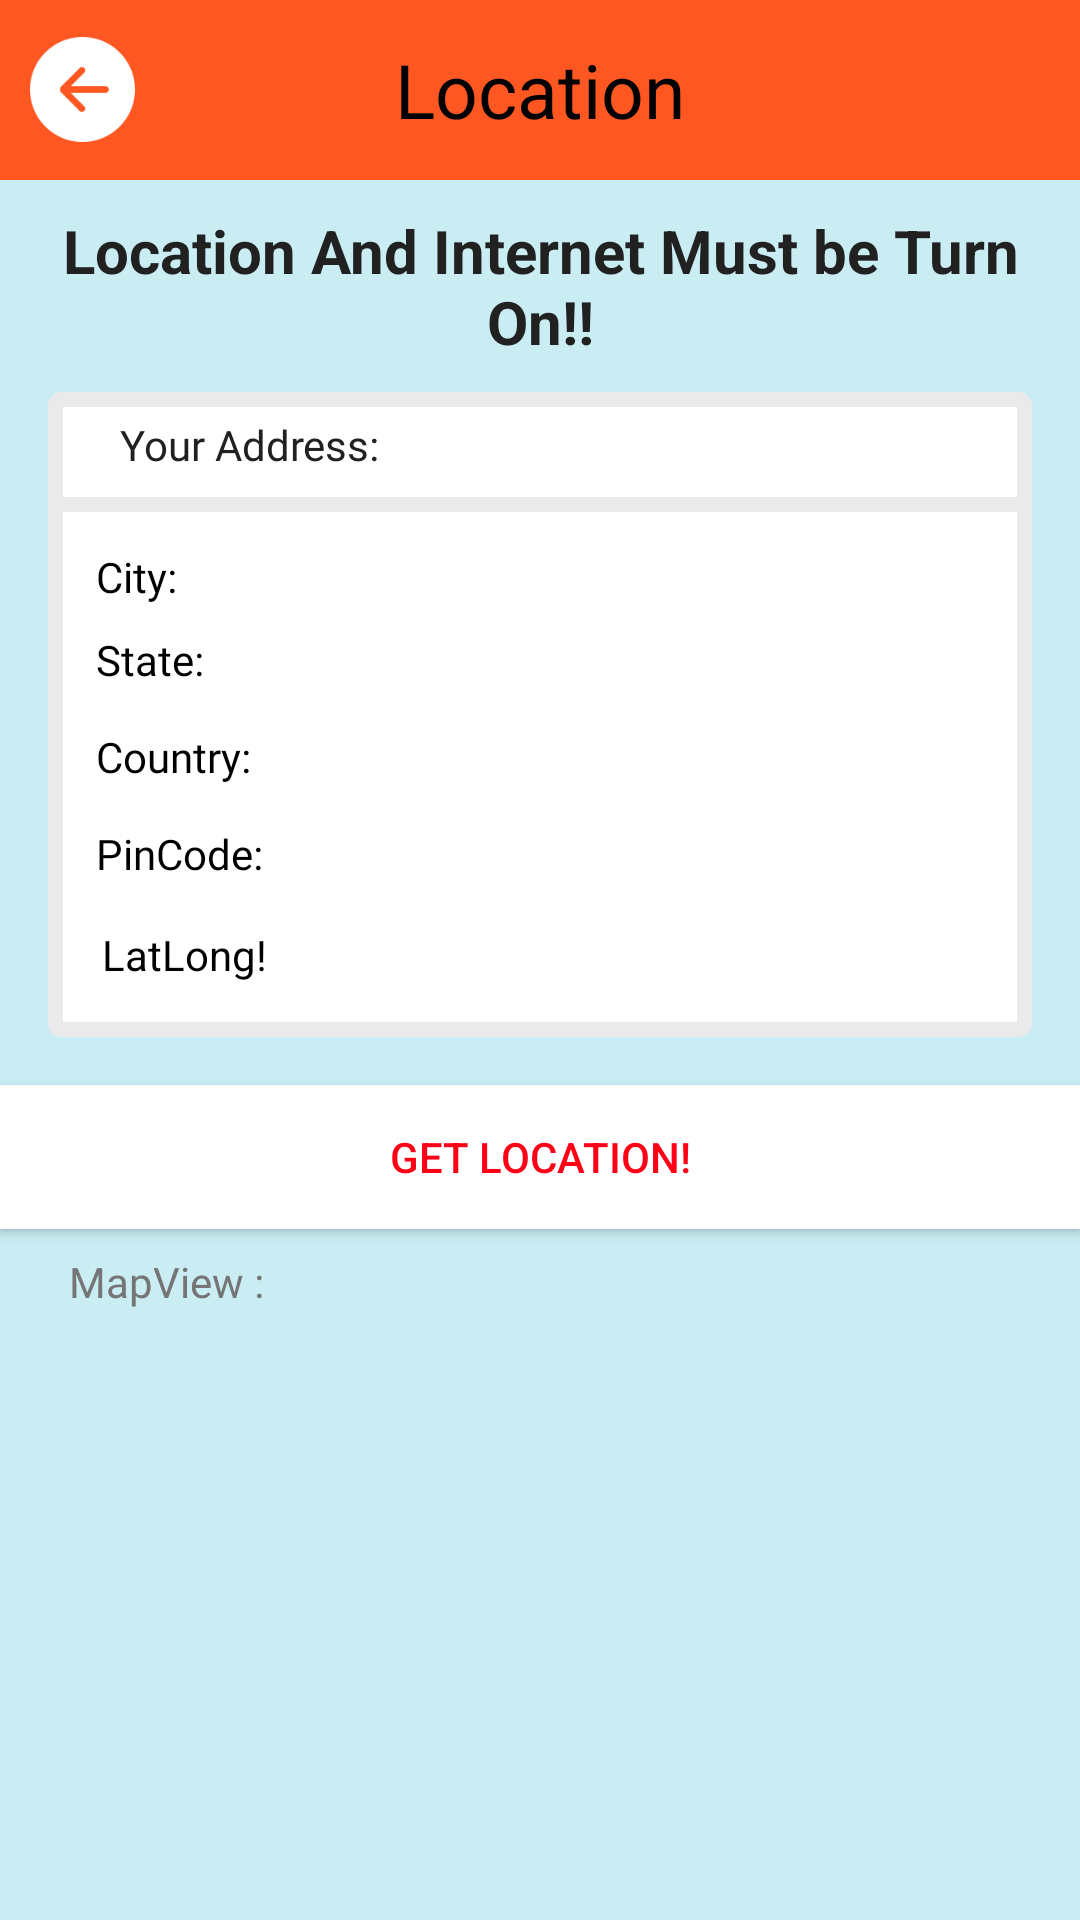

Where to tap for icons on this 1080px x 1920px app screen, as point (x, y):
leftarrow: point (82, 89)
